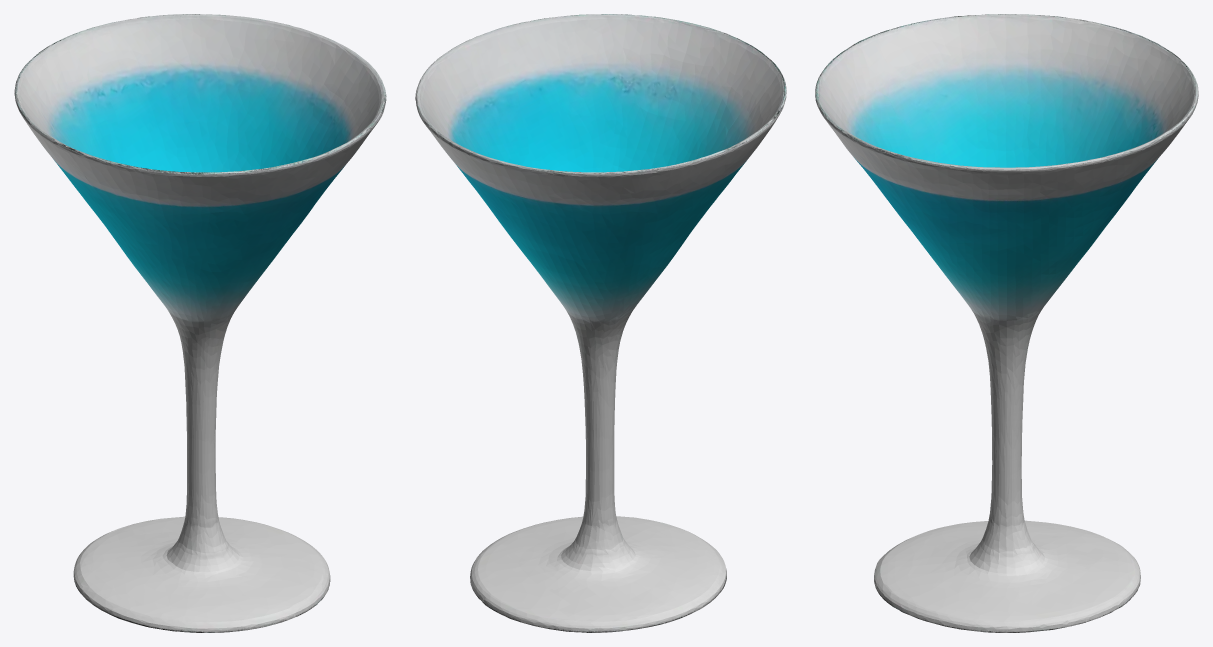
Rendered from p_blueice.glb.
3 views of the same model, side by side, from view 1: azimuth 30°, elevation 25°; view 2: azimuth 150°, elevation 25°; view 3: azimuth 270°, elevation 25° (orthographic).
Visible parts, largest first — view 1: geometry_0; view 2: geometry_0; view 3: geometry_0.
Part boxes in pixels (x1,y1,x2,y2): geometry_0: [14, 14, 386, 632]; geometry_0: [415, 14, 786, 632]; geometry_0: [815, 14, 1198, 632].
Size of the model in its own units: 0.6852 by 1 by 0.7128.
1 material, 1 textured.
